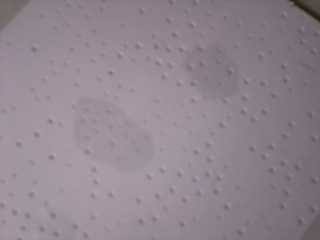Water_detected: (77, 105, 140, 159), (180, 47, 216, 82), (41, 200, 64, 231)
